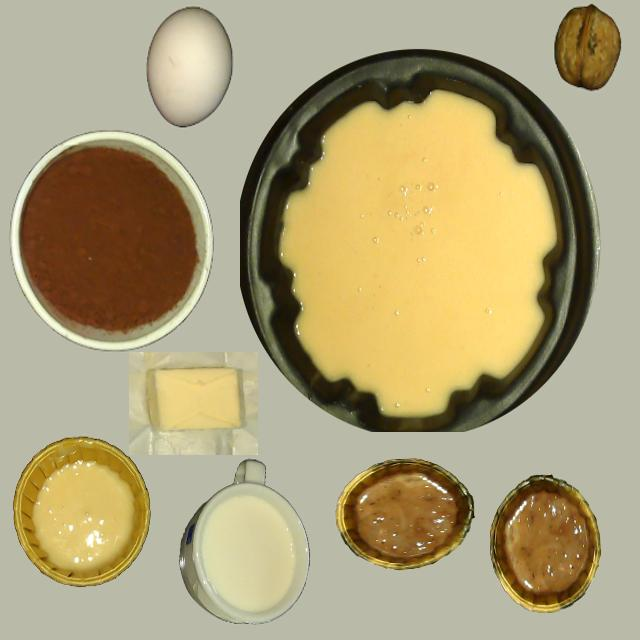Cocoa: (11, 132, 212, 352)
Milk: (204, 498, 292, 610)
Walnut: (554, 5, 620, 90)
